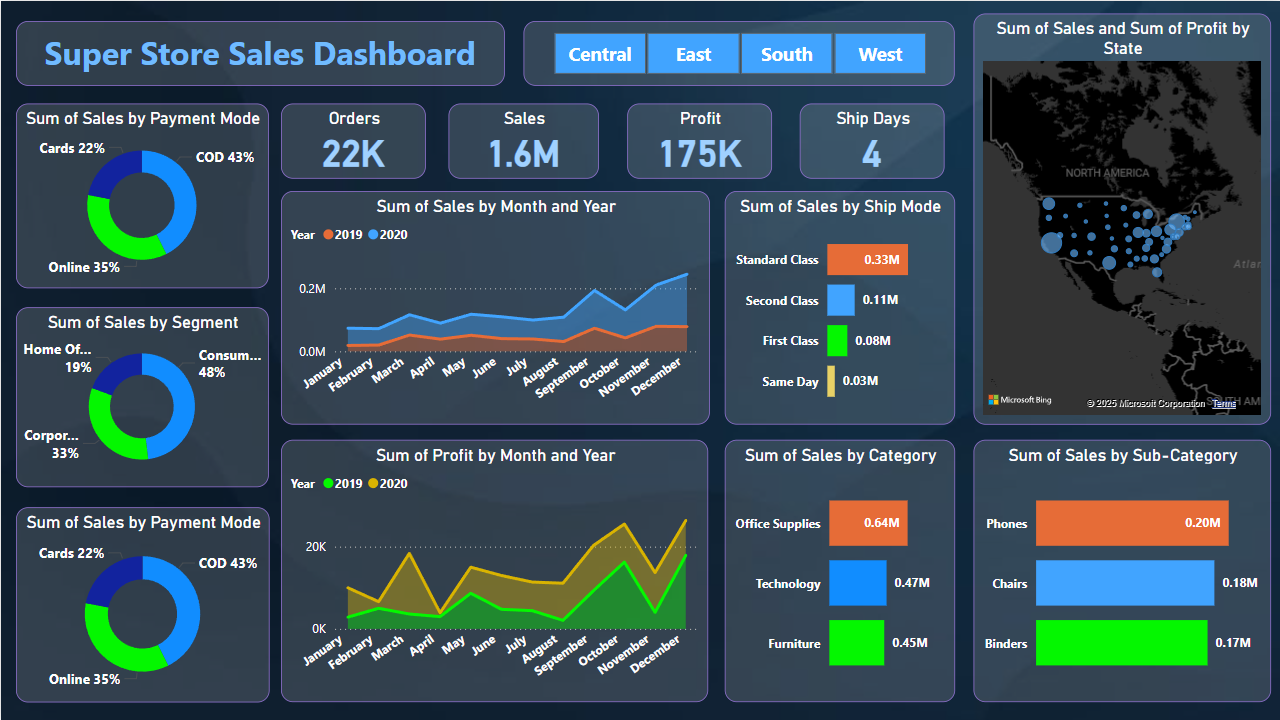

What the dashboard file says about the page in this screenshot:
{"tool":"powerbi","page":{"name":"Page 1","canvas":[1280,720],"ordinal":0},"visuals":[{"type":"clusteredBarChart","fields":{"Category":["SuperStore_Sales_Dataset.Category"],"Y":["Sum(SuperStore_Sales_Dataset.Sales)"]},"box":[723.8,438.8,230,262.5],"z":0},{"type":"clusteredBarChart","fields":{"Category":["SuperStore_Sales_Dataset.Sub-Category"],"Y":["Sum(SuperStore_Sales_Dataset.Sales)"]},"box":[972.5,438.8,297.5,262.5],"z":1000},{"type":"clusteredBarChart","fields":{"Category":["SuperStore_Sales_Dataset.Ship Mode"],"Y":["Sum(SuperStore_Sales_Dataset.Sales)"]},"box":[723.8,190,230,233.8],"z":2000},{"type":"stackedAreaChart","fields":{"Y":["Sum(SuperStore_Sales_Dataset.Sales)"],"Category":["SuperStore_Sales_Dataset.Order Date.Variation.Date Hierarchy.Month","SuperStore_Sales_Dataset.Order Date.Variation.Date Hierarchy.Day"],"Series":["SuperStore_Sales_Dataset.Order Date.Variation.Date Hierarchy.Year"]},"box":[280,190,428.8,233.8],"z":3000},{"type":"stackedAreaChart","fields":{"Category":["SuperStore_Sales_Dataset.Order Date.Variation.Date Hierarchy.Month","SuperStore_Sales_Dataset.Order Date.Variation.Date Hierarchy.Day"],"Series":["SuperStore_Sales_Dataset.Order Date.Variation.Date Hierarchy.Year"],"Y":["Sum(SuperStore_Sales_Dataset.Profit)"]},"box":[280,438.8,427.5,262.5],"z":4000},{"type":"map","fields":{"Category":["SuperStore_Sales_Dataset.State"],"Size":["Sum(SuperStore_Sales_Dataset.Sales)"]},"box":[972.5,12.5,297.5,411.2],"z":5000},{"type":"donutChart","fields":{"Category":["SuperStore_Sales_Dataset.Segment"],"Y":["Sum(SuperStore_Sales_Dataset.Sales)"]},"box":[15,306.2,252.5,180],"z":6000},{"type":"donutChart","fields":{"Y":["Sum(SuperStore_Sales_Dataset.Sales)"],"Category":["SuperStore_Sales_Dataset.Payment Mode"]},"box":[15,506.2,253.8,195],"z":7000},{"type":"slicer","fields":{"Values":["SuperStore_Sales_Dataset.Region"]},"box":[522.5,20,431.2,65],"z":8000},{"type":"textbox","box":[15,20,488.8,65],"z":9000},{"type":"card","title":"Sales","fields":{"Values":["Sum(SuperStore_Sales_Dataset.Sales)"]},"box":[447.5,102.5,150,75],"z":10000},{"type":"actionButton","box":[0,0,100,40],"z":11000},{"type":"card","title":"Orders","fields":{"Values":["Sum(SuperStore_Sales_Dataset.Quantity)"]},"box":[280,102.5,145,75],"z":12000},{"type":"card","title":"Profit","fields":{"Values":["Sum(SuperStore_Sales_Dataset.Profit)"]},"box":[626.2,102.5,145,75],"z":13000},{"type":"card","title":"Ship Days","fields":{"Values":["Avg(SuperStore_Sales_Dataset.AvgDelivery)"]},"box":[798.8,102.5,145,75],"z":14000},{"type":"donutChart","fields":{"Y":["Sum(SuperStore_Sales_Dataset.Sales)"],"Category":["SuperStore_Sales_Dataset.Payment Mode"]},"box":[15,102.5,252.5,185],"z":15000}]}

Visuals, with their boxes in screenshot pixels (x1, y1, x2, y2), scaled from the page's 1280x720 canvas onto the 1280x720 screenshot:
clusteredBarChart - SuperStore_Sales_Dataset.Category x Sum(SuperStore_Sales_Dataset.Sales): <box>724,439,954,701</box>
clusteredBarChart - SuperStore_Sales_Dataset.Sub-Category x Sum(SuperStore_Sales_Dataset.Sales): <box>972,439,1270,701</box>
clusteredBarChart - SuperStore_Sales_Dataset.Ship Mode x Sum(SuperStore_Sales_Dataset.Sales): <box>724,190,954,424</box>
stackedAreaChart - Sum(SuperStore_Sales_Dataset.Sales) x SuperStore_Sales_Dataset.Order Date.Variation.Date Hierarchy.Month: <box>280,190,709,424</box>
stackedAreaChart - SuperStore_Sales_Dataset.Order Date.Variation.Date Hierarchy.Month x SuperStore_Sales_Dataset.Order Date.Variation.Date Hierarchy.Day: <box>280,439,708,701</box>
map - SuperStore_Sales_Dataset.State x Sum(SuperStore_Sales_Dataset.Sales): <box>972,12,1270,424</box>
donutChart - SuperStore_Sales_Dataset.Segment x Sum(SuperStore_Sales_Dataset.Sales): <box>15,306,268,486</box>
donutChart - Sum(SuperStore_Sales_Dataset.Sales) x SuperStore_Sales_Dataset.Payment Mode: <box>15,506,269,701</box>
slicer - SuperStore_Sales_Dataset.Region: <box>522,20,954,85</box>
textbox: <box>15,20,504,85</box>
"Sales" card: <box>448,102,598,178</box>
actionButton: <box>0,0,100,40</box>
"Orders" card: <box>280,102,425,178</box>
"Profit" card: <box>626,102,771,178</box>
"Ship Days" card: <box>799,102,944,178</box>
donutChart - Sum(SuperStore_Sales_Dataset.Sales) x SuperStore_Sales_Dataset.Payment Mode: <box>15,102,268,288</box>
